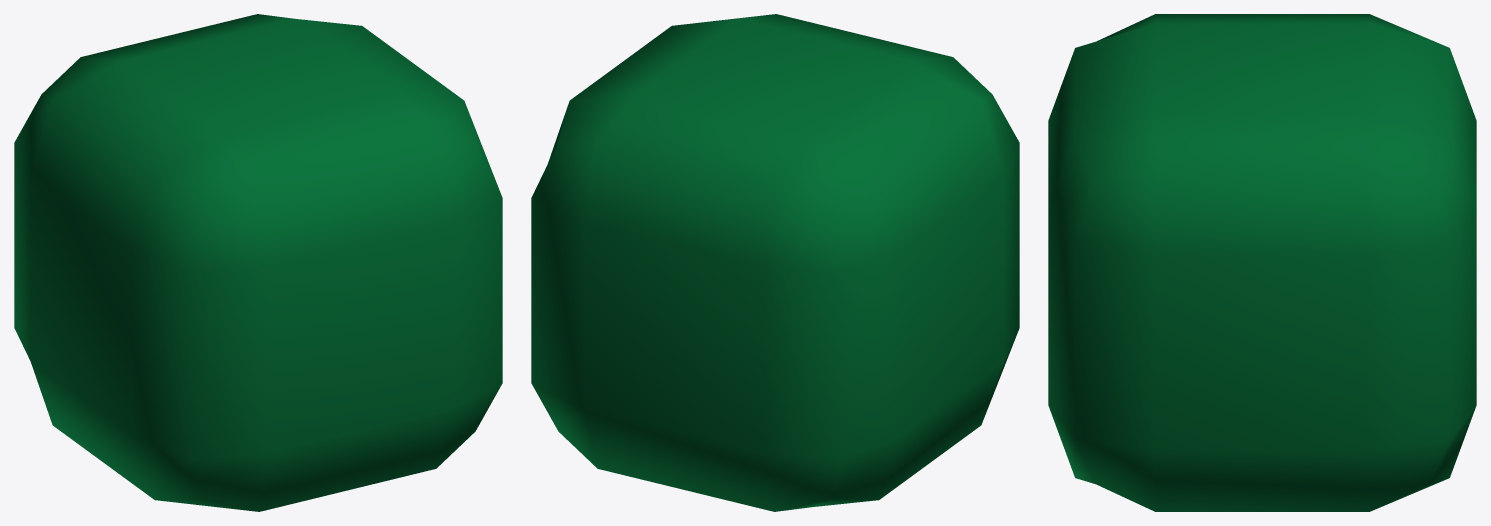
The model's file is bush_basic2.fbx.
3 renders of one model, left to right at view 1: azimuth 30°, elevation 25°; view 2: azimuth 150°, elevation 25°; view 3: azimuth 270°, elevation 25°, orthographic. The views are drawn at different scales.
Parts seen in each view (by area): view 1: bush_leaves; view 2: bush_leaves; view 3: bush_leaves.
Part boxes in pixels (left/top/right/bottom): bush_leaves: left=14, top=14, right=502, bottom=511; bush_leaves: left=531, top=14, right=1019, bottom=511; bush_leaves: left=1048, top=14, right=1476, bottom=511.
Size of the model in its own units: 11.88 by 13.41 by 11.88.
